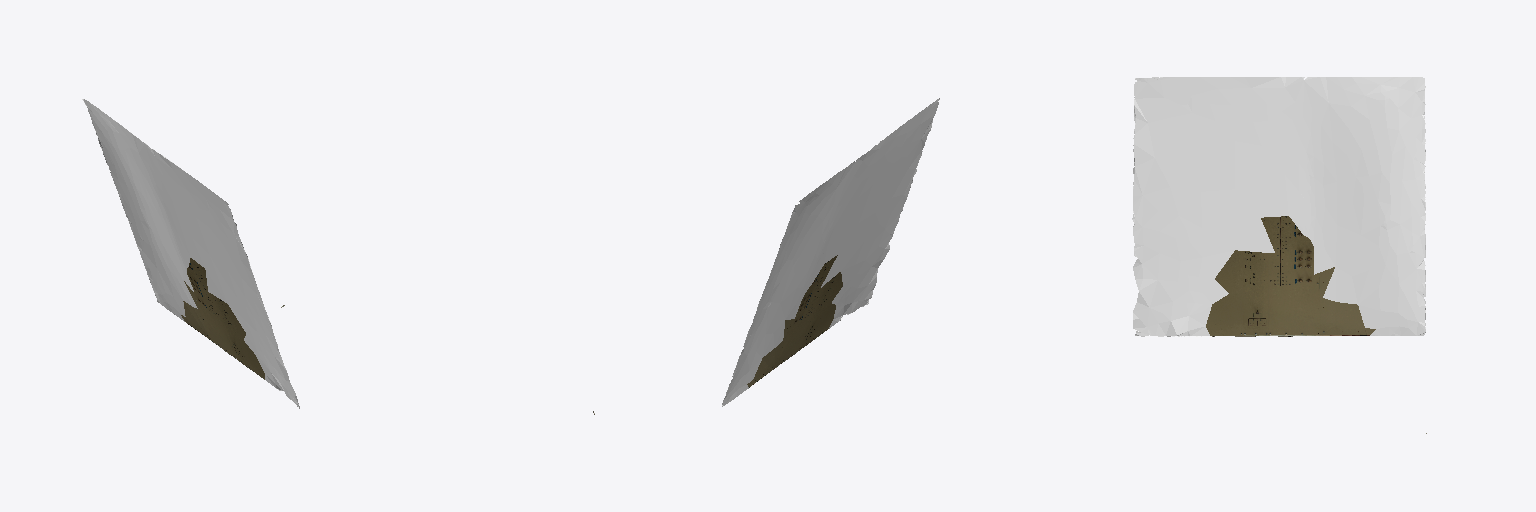
3 renders of one model, left to right at view 1: azimuth 30°, elevation 25°; view 2: azimuth 150°, elevation 25°; view 3: azimuth 270°, elevation 25°, orthographic.
Size of the model in its own units: 1.64 by 2.01 by 2.06.
2 materials, 1 textured.